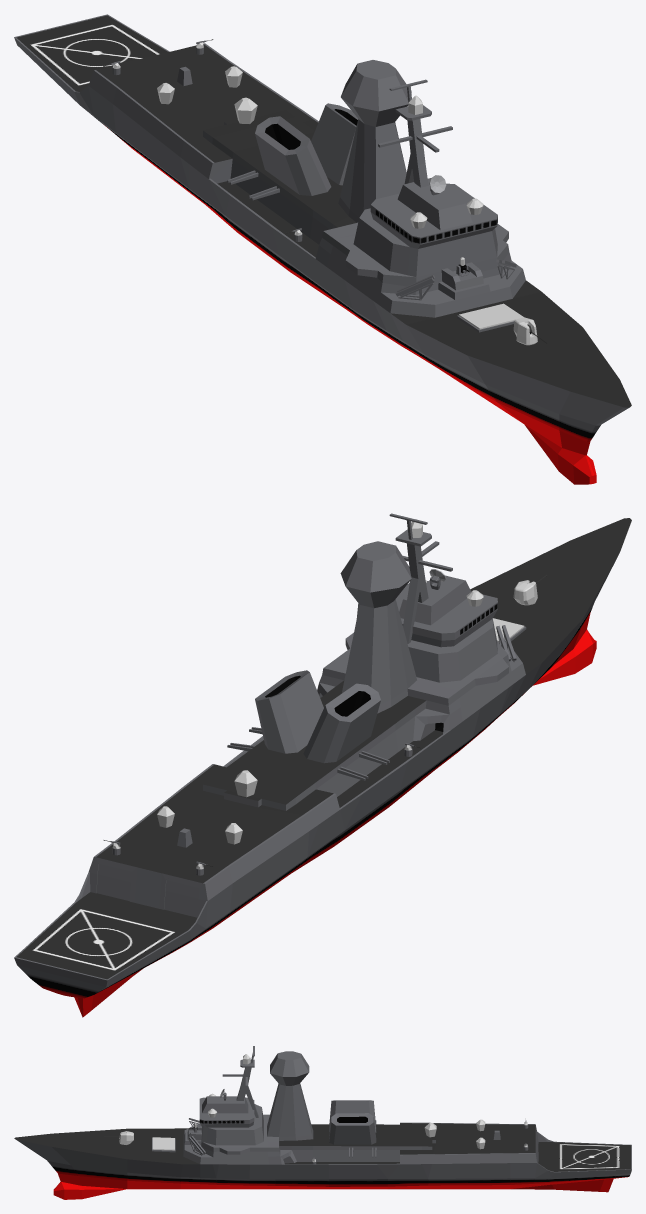
The picture shows the model from 3 angles, top to bottom: view 1: azimuth 30°, elevation 25°; view 2: azimuth 150°, elevation 25°; view 3: azimuth 270°, elevation 25°; orthographic projection. The views are drawn at different scales.
Parts seen in each view (by area): view 1: Cube.020; view 2: Cube.020, Cube.023, Cube.024; view 3: Cube.020.
Boxes of the visible parts, <box> form: Cube.020: <box>14,14,631,484</box>; Cube.020: <box>14,513,631,1017</box>; Cube.023: <box>96,862,131,900</box>; Cube.024: <box>164,878,199,917</box>; Cube.020: <box>14,1046,631,1199</box>.
Bounding box in the file's own units: 2272 × 3887 × 14776.
